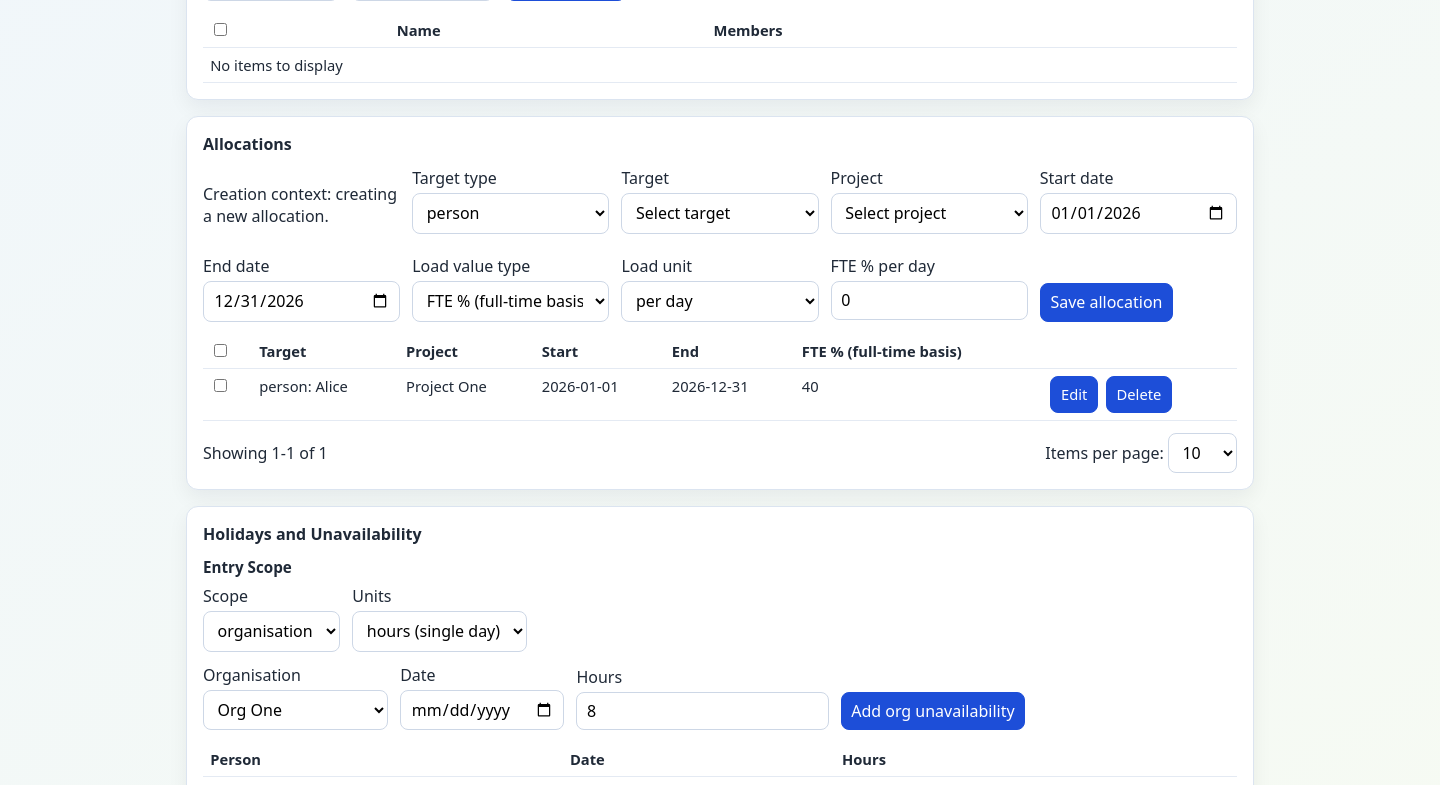
App focused behaviors › deletes allocation immediately without showing a delete strategy prompt
The image size is (1440, 785).
(page scrolled)
Expected: the element "Allocations" is shown, [186,116,1254,490]
Expected: the text "person: Alice" is shown, [252,368,399,420]
Step 1. Click the button "Edit" → x=1074, y=394, box [1050,376,1098,413]
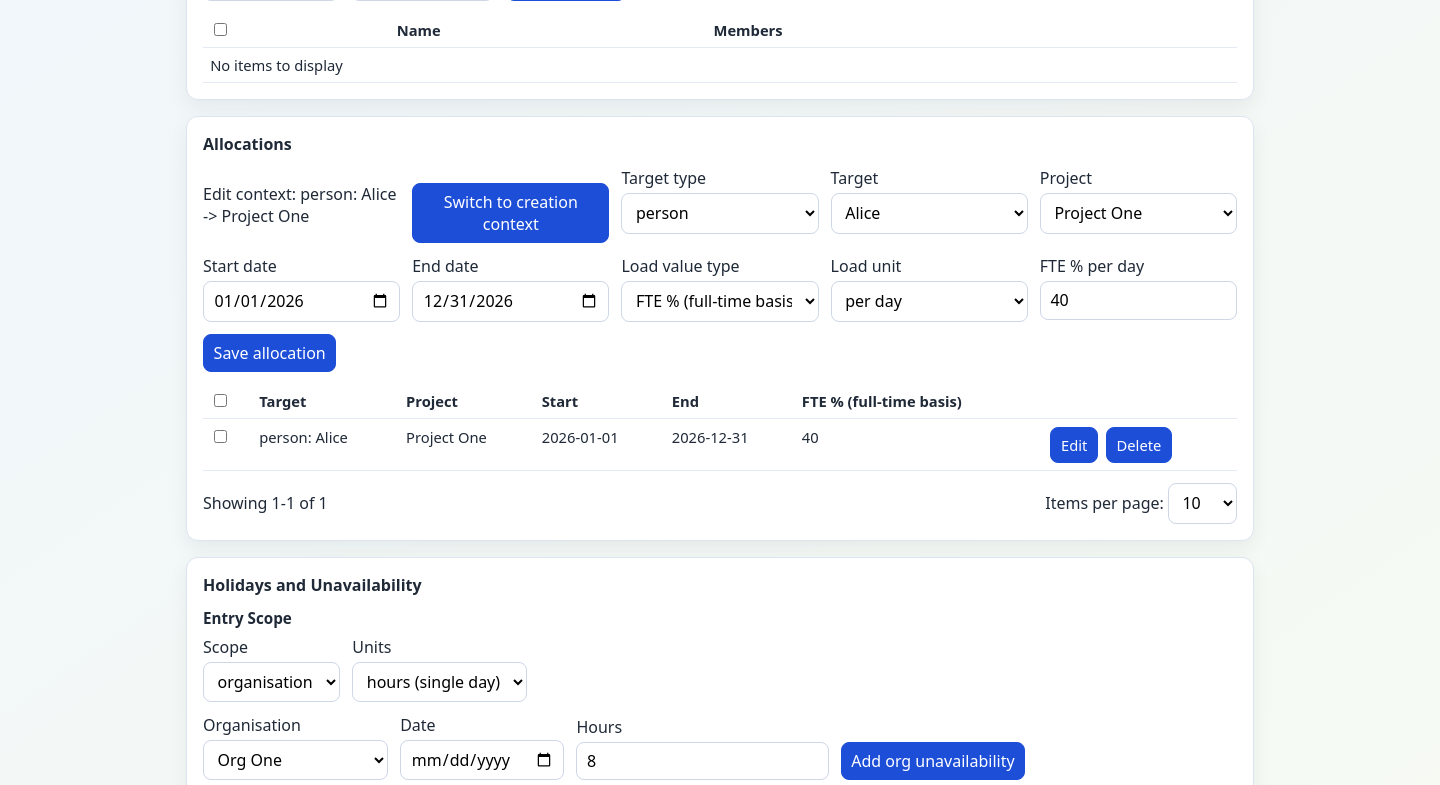
Result: the text "Edit context: person: Alice -> Project One" is shown at [203,183,400,227]
Step 2. Click the button "Delete" → x=1139, y=445, box [1106,427,1172,463]
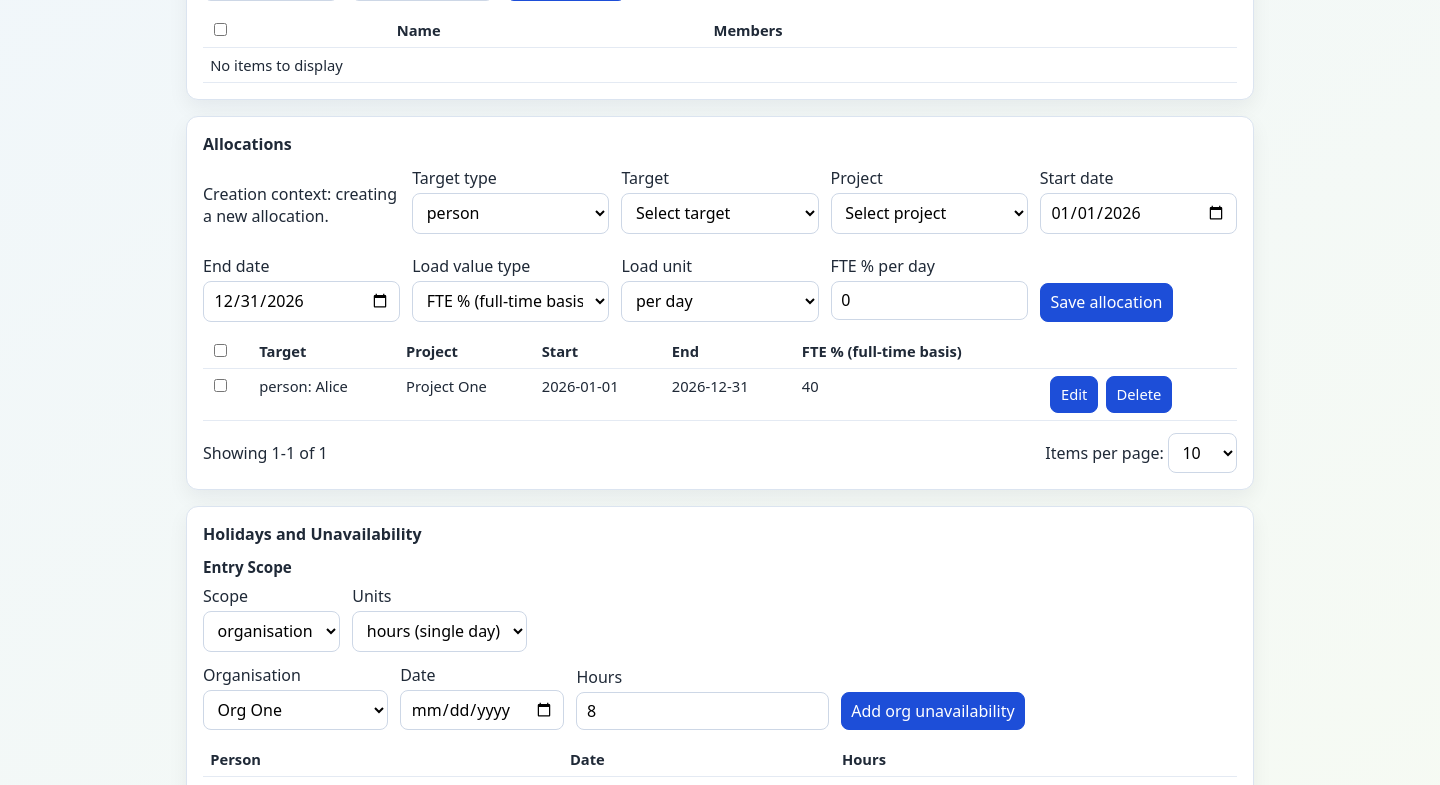
Result: the text "Creation context: creating a new allocation." is shown at [203,183,400,227]
